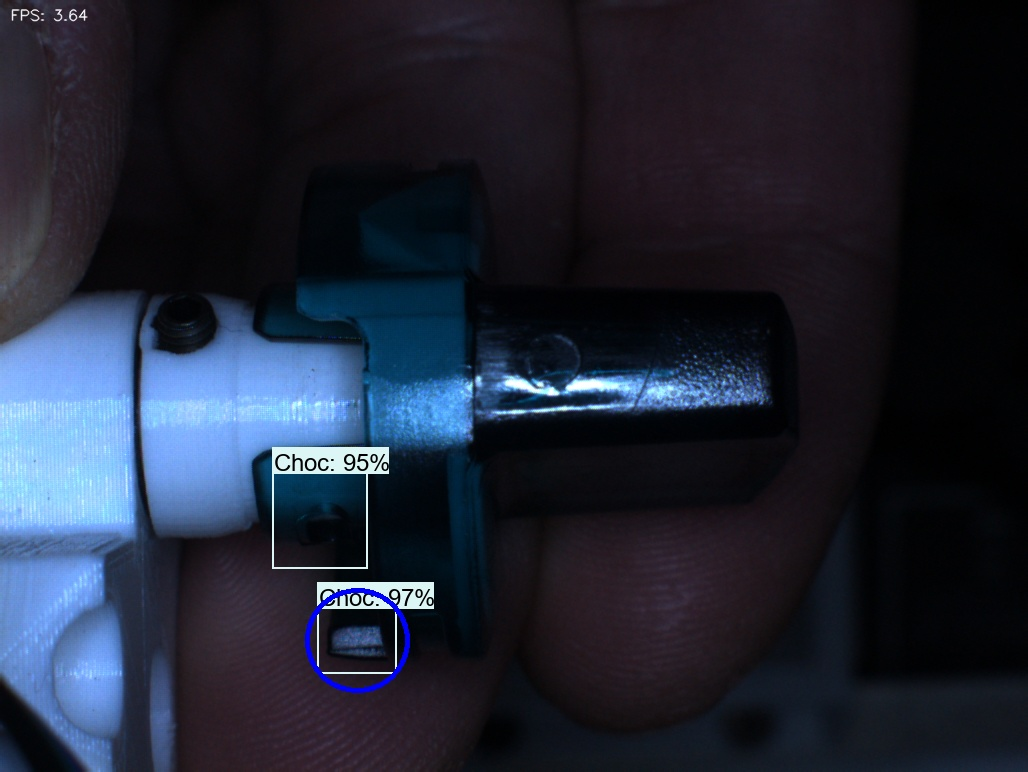DentOk: (333, 183, 400, 267)
